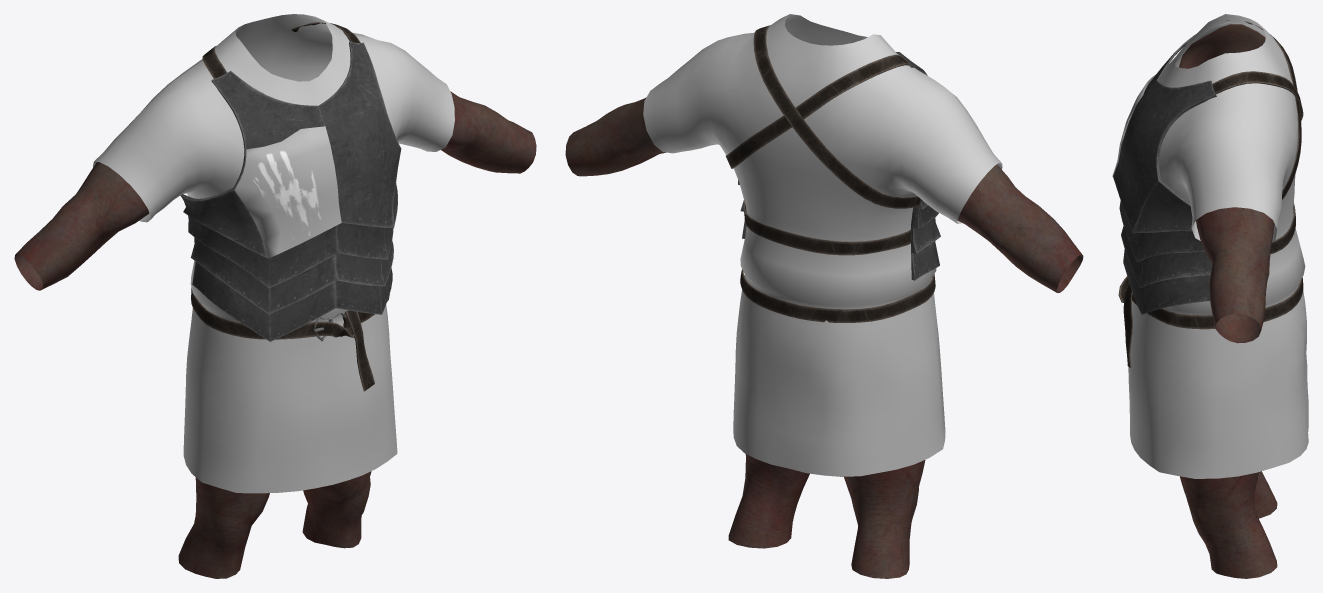
The model's file is sk_uruk_hai_plate_med_a1.fbx.
3 views of the same model, side by side, from view 1: azimuth 30°, elevation 25°; view 2: azimuth 150°, elevation 25°; view 3: azimuth 270°, elevation 25° (orthographic). The views are drawn at different scales.
Visible parts, largest first — view 1: sk_uruk_hai_plate_med_a1.0, sk_uruk_hai_plate_med_a1.2, sk_uruk_hai_plate_med_a1.body.1, sk_uruk_hai_plate_med_a1.3, sk_uruk_hai_plate_med_a1.body.0, sk_uruk_hai_plate_med_a1.1; view 2: sk_uruk_hai_plate_med_a1.0, sk_uruk_hai_plate_med_a1.body.1, sk_uruk_hai_plate_med_a1.1, sk_uruk_hai_plate_med_a1.body.0, sk_uruk_hai_plate_med_a1.2; view 3: sk_uruk_hai_plate_med_a1.0, sk_uruk_hai_plate_med_a1.2, sk_uruk_hai_plate_med_a1.body.1, sk_uruk_hai_plate_med_a1.body.0, sk_uruk_hai_plate_med_a1.1, sk_uruk_hai_plate_med_a1.3.
Boxes of the visible parts, x1=… form: sk_uruk_hai_plate_med_a1.0: x1=93, y1=14, x2=454, y2=493; sk_uruk_hai_plate_med_a1.2: x1=180, y1=42, x2=401, y2=341; sk_uruk_hai_plate_med_a1.body.1: x1=14, y1=91, x2=536, y2=290; sk_uruk_hai_plate_med_a1.3: x1=234, y1=126, x2=341, y2=258; sk_uruk_hai_plate_med_a1.body.0: x1=178, y1=471, x2=371, y2=578; sk_uruk_hai_plate_med_a1.1: x1=184, y1=22, x2=389, y2=391; sk_uruk_hai_plate_med_a1.0: x1=643, y1=14, x2=1002, y2=476; sk_uruk_hai_plate_med_a1.body.1: x1=565, y1=97, x2=1083, y2=292; sk_uruk_hai_plate_med_a1.1: x1=726, y1=25, x2=935, y2=322; sk_uruk_hai_plate_med_a1.body.0: x1=728, y1=454, x2=925, y2=578; sk_uruk_hai_plate_med_a1.2: x1=738, y1=52, x2=940, y2=280; sk_uruk_hai_plate_med_a1.0: x1=1128, y1=14, x2=1308, y2=478; sk_uruk_hai_plate_med_a1.2: x1=1113, y1=34, x2=1216, y2=314; sk_uruk_hai_plate_med_a1.body.1: x1=1179, y1=24, x2=1274, y2=343; sk_uruk_hai_plate_med_a1.body.0: x1=1180, y1=471, x2=1277, y2=578; sk_uruk_hai_plate_med_a1.1: x1=1118, y1=20, x2=1303, y2=367; sk_uruk_hai_plate_med_a1.3: x1=1112, y1=74, x2=1155, y2=176.
Bounding box in the file's own units: 1.2 × 0.4185 × 1.19.
